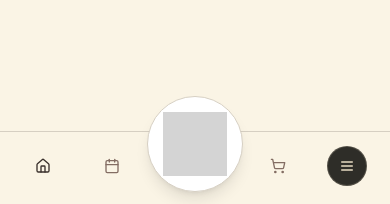
Test: Header mobile nav › shows sleek bottom-nav menu with profile options
This screenshot has width=390, height=204.
Click the button named "open menu" at coordinates (347, 166), box [327,146,367,186]
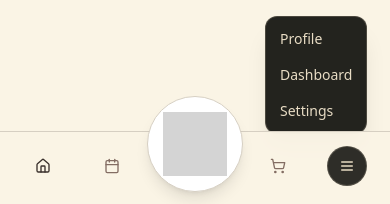
expect the menu item "Profile" is shown: met, box [280,29,322,48]
expect the menu item "Settings" is shown: met, box [280,101,333,120]
expect the menu item "Dashboard" is shown: met, box [280,65,352,84]
